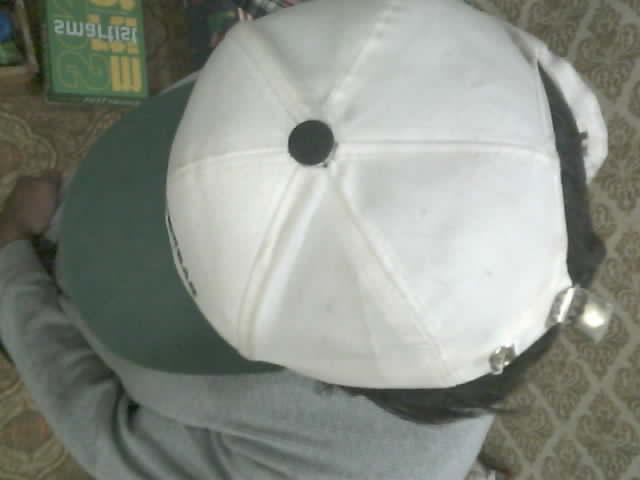cap: (53, 0, 609, 390)
